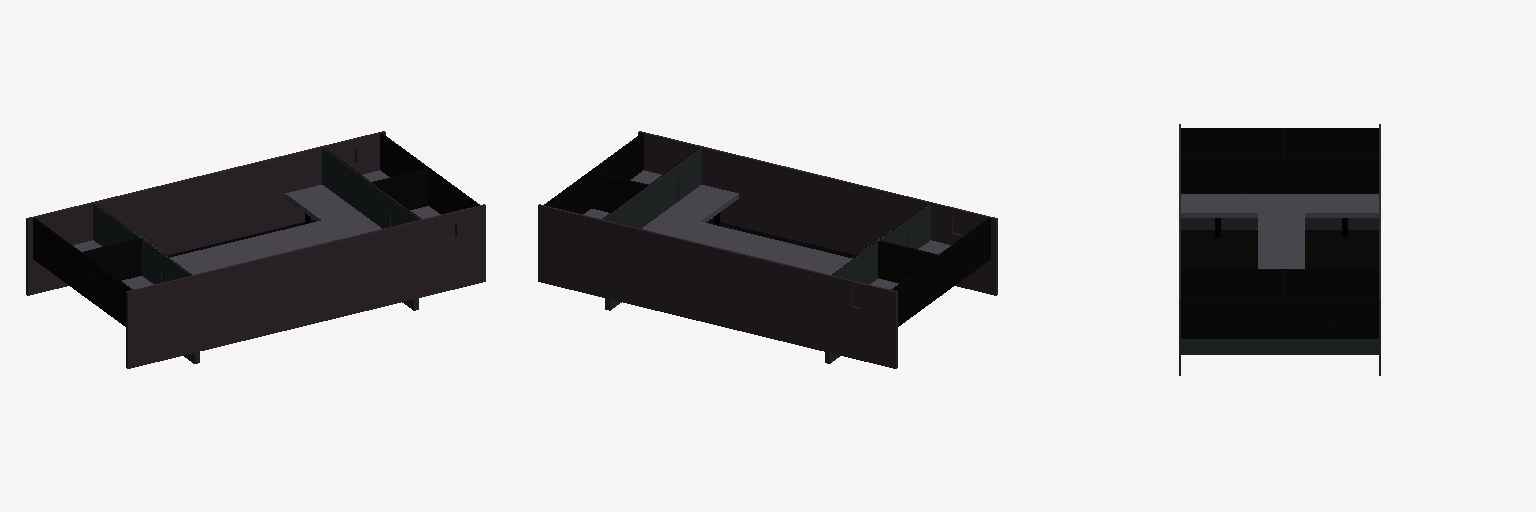
File: camera2.obj
3 renders of one model, left to right at view 1: azimuth 30°, elevation 25°; view 2: azimuth 150°, elevation 25°; view 3: azimuth 270°, elevation 25°, orthographic.
Visible parts, largest first — view 1: Perete_mare2.001_Cube.009, Perete_mare2_Cube.001, Cube.004, Cube.002_Cube.008, Cube.007_Cube.011, Cube.001_Cube.007, Cube.003_Cube, Cube.006_Cube.010, Cube.010_Cube.014, Cube.011_Cube.015; view 2: Perete_mare2_Cube.001, Perete_mare2.001_Cube.009, Cube.004, Cube.002_Cube.008, Cube.007_Cube.011, Cube.001_Cube.007, Cube.003_Cube, Cube.006_Cube.010, Cube.009_Cube.013, Cube.012_Cube.016, Podea_Plane; view 3: Cube.003_Cube, Cube.005_Cube.002, Podea_Plane, Cube.004, Cube.008_Cube.012, Cube_Cube.006, Perete_Mic_Cube.003, Cube.002_Cube.008, Perete_Mic.001_Cube.005.
Boxes of the visible parts, <box> form: Perete_mare2.001_Cube.009: <box>126,204,485,368</box>; Perete_mare2_Cube.001: <box>26,131,385,295</box>; Cube.004: <box>33,218,132,326</box>; Cube.002_Cube.008: <box>170,220,345,274</box>; Cube.007_Cube.011: <box>322,148,420,228</box>; Cube.001_Cube.007: <box>285,170,440,237</box>; Cube.003_Cube: <box>380,133,479,214</box>; Cube.006_Cube.010: <box>93,204,191,284</box>; Cube.010_Cube.014: <box>84,239,141,280</box>; Cube.011_Cube.015: <box>373,169,428,209</box>; Perete_mare2_Cube.001: <box>538,204,897,368</box>; Perete_mare2.001_Cube.009: <box>638,131,997,295</box>; Cube.004: <box>891,218,990,326</box>; Cube.002_Cube.008: <box>678,221,852,274</box>; Cube.007_Cube.011: <box>603,148,701,228</box>; Cube.001_Cube.007: <box>583,170,738,237</box>; Cube.003_Cube: <box>544,133,643,214</box>; Cube.006_Cube.010: <box>832,204,930,284</box>; Cube.009_Cube.013: <box>878,241,937,282</box>; Cube.012_Cube.016: <box>592,172,647,212</box>; Podea_Plane: <box>706,220,856,258</box>; Cube.003_Cube: <box>1181,297,1378,338</box>; Cube.005_Cube.002: <box>1181,157,1378,193</box>; Podea_Plane: <box>1181,230,1378,268</box>; Cube.004: <box>1181,128,1378,156</box>; Cube.008_Cube.012: <box>1181,269,1378,296</box>; Cube_Cube.006: <box>1181,194,1378,217</box>; Perete_Mic_Cube.003: <box>1181,339,1378,354</box>; Cube.002_Cube.008: <box>1258,213,1304,268</box>; Perete_Mic.001_Cube.005: <box>1181,218,1378,229</box>.
Bounding box in the file's own units: 147 × 34.63 × 71.9.